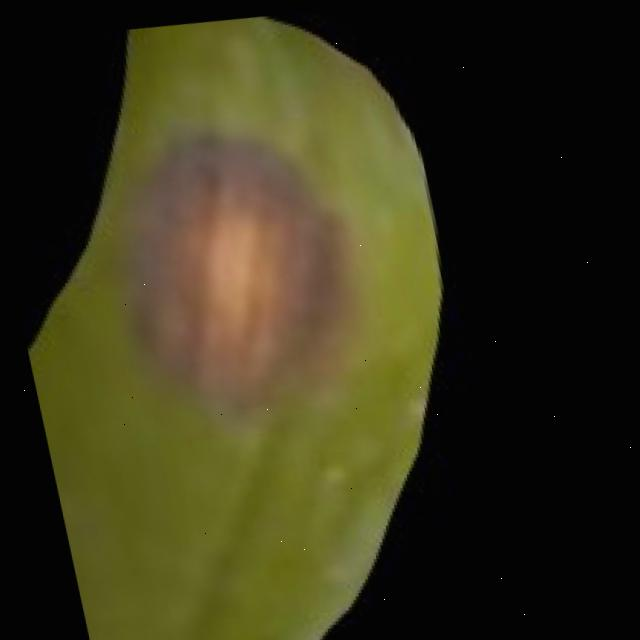mite: (2, 10, 640, 377), (2, 26, 215, 374)
sunburn: (85, 111, 386, 436)
